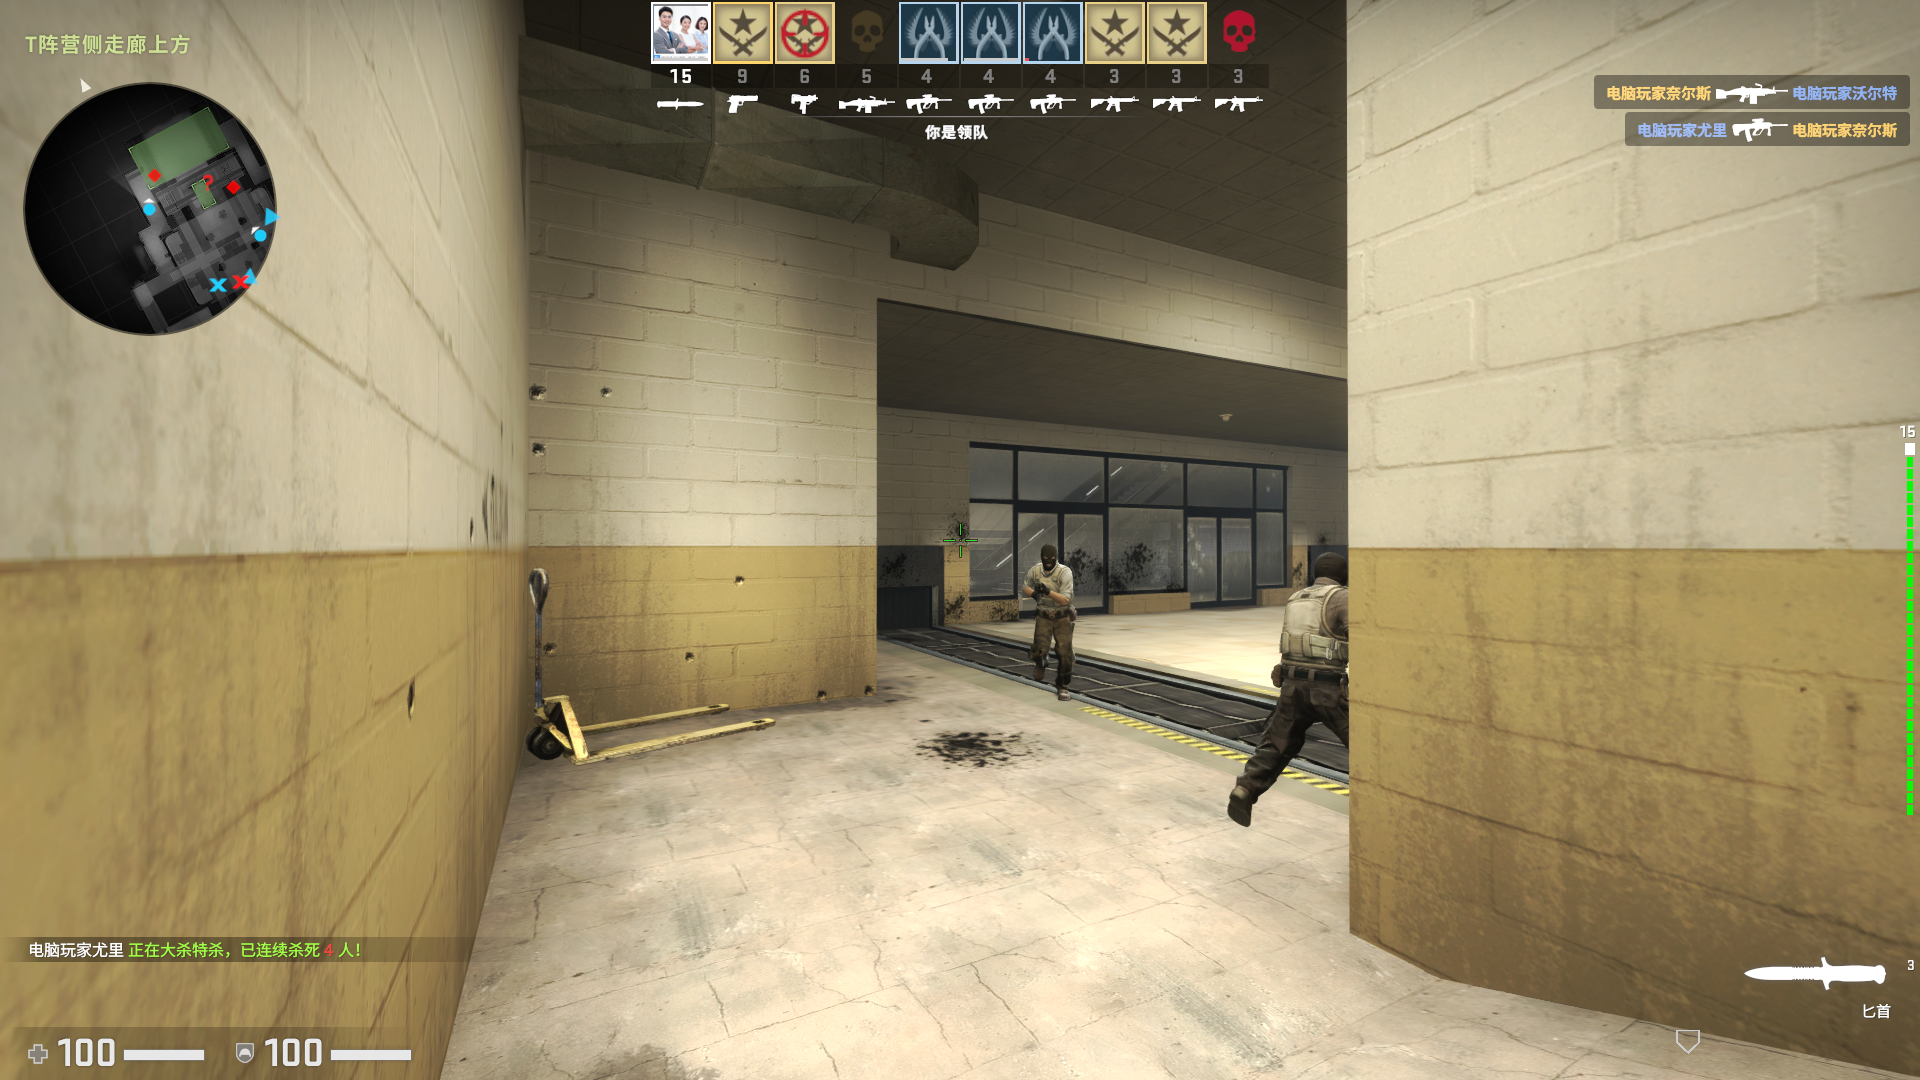person: (1238, 555, 1357, 833), (1018, 546, 1090, 699)
